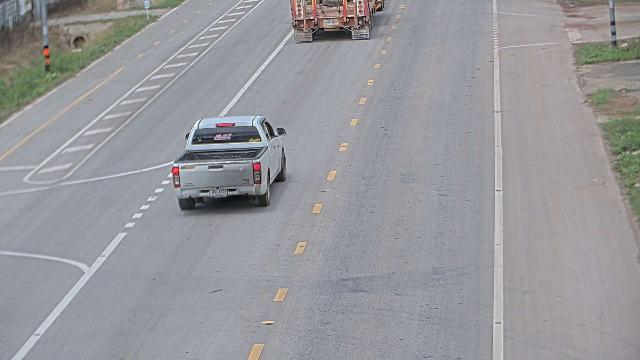pickup-truck: (170, 114, 287, 210)
